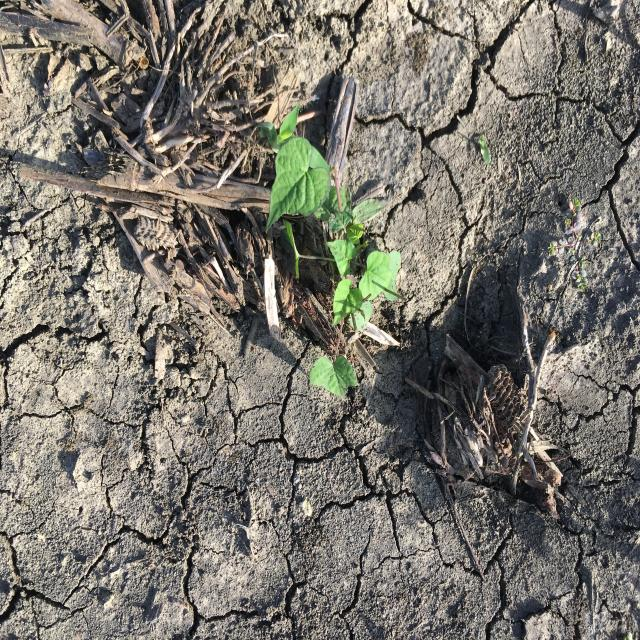MorningGlory: (265, 136, 403, 401)
